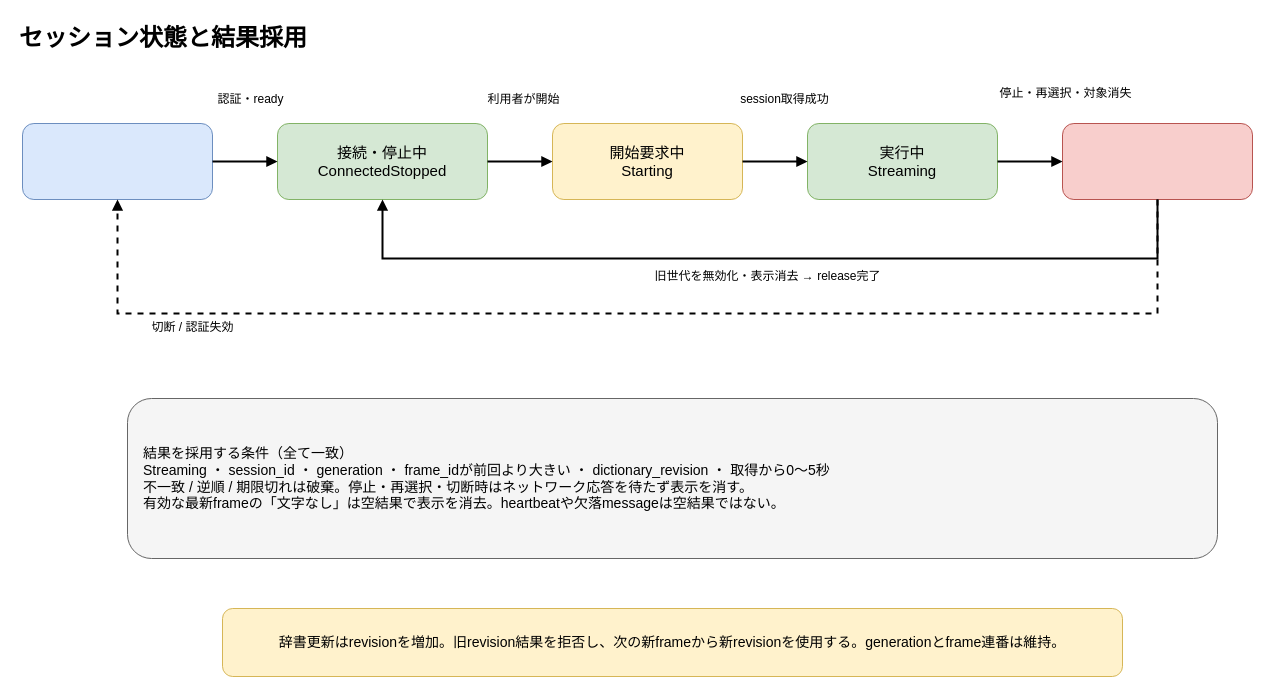
This 1270x694 diagram has some shape labels left out. Each missing label, with the box of its shape:
停止処理 Stopping: (1062, 122, 1252, 200)
切断 Disconnected: (22, 122, 212, 200)
